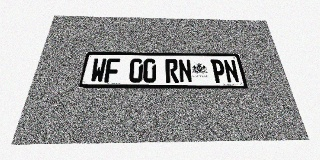0: (129, 59, 143, 83), (143, 59, 156, 83)
F: (104, 58, 120, 83)
N: (223, 59, 240, 83), (178, 59, 193, 83)
P: (210, 59, 227, 83)
R: (165, 59, 179, 83)
W: (89, 58, 107, 83)
